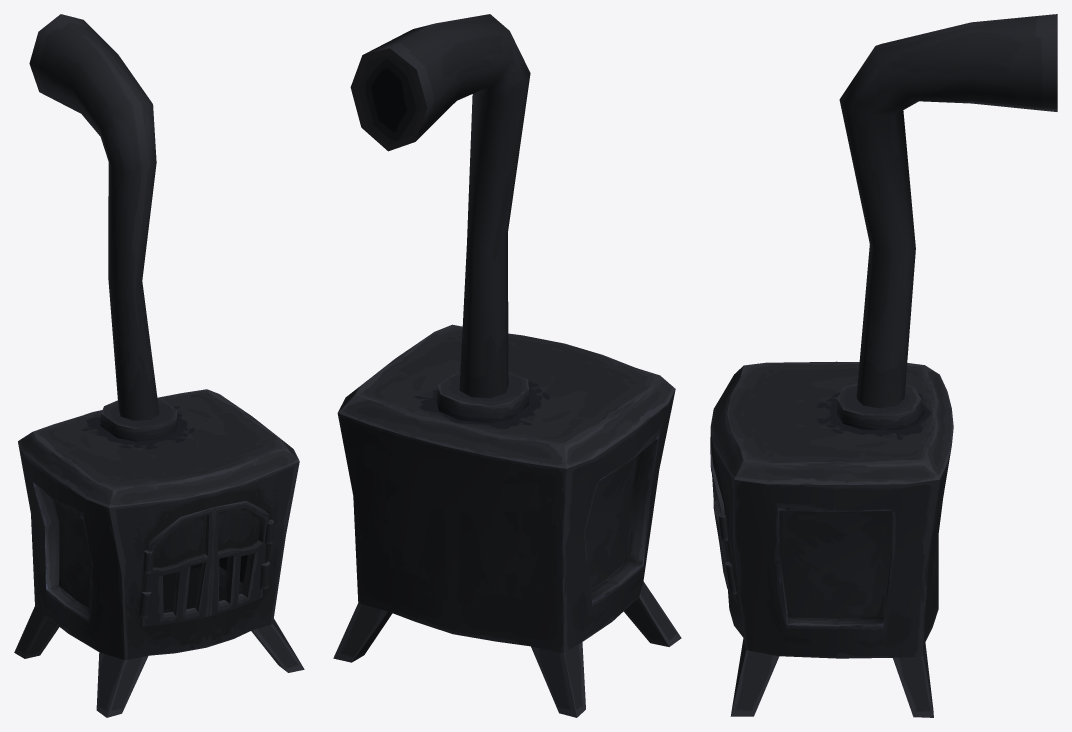
Rendered from SM_PROP_stove_interior.fbx.
3 renders of one model, left to right at view 1: azimuth 30°, elevation 25°; view 2: azimuth 150°, elevation 25°; view 3: azimuth 270°, elevation 25°, orthographic. The views are drawn at different scales.
Parts seen in each view (by area): view 1: SM_PROP_stove_interior, SM_PROP_stove_pipe_interior, SM_PROP_stove_door_01_interior, SM_PROP_stove_door_02_interior; view 2: SM_PROP_stove_interior, SM_PROP_stove_pipe_interior; view 3: SM_PROP_stove_interior, SM_PROP_stove_pipe_interior, SM_PROP_stove_door_02_interior.
Boxes of the visible parts, x1=… form: SM_PROP_stove_interior: x1=14, y1=389, x2=304, y2=717; SM_PROP_stove_pipe_interior: x1=29, y1=14, x2=159, y2=420; SM_PROP_stove_door_01_interior: x1=142, y1=507, x2=214, y2=626; SM_PROP_stove_door_02_interior: x1=208, y1=500, x2=269, y2=616; SM_PROP_stove_interior: x1=333, y1=324, x2=681, y2=717; SM_PROP_stove_pipe_interior: x1=350, y1=14, x2=530, y2=398; SM_PROP_stove_interior: x1=710, y1=361, x2=953, y2=717; SM_PROP_stove_pipe_interior: x1=839, y1=14, x2=1057, y2=408; SM_PROP_stove_door_02_interior: x1=710, y1=444, x2=737, y2=604.
Size of the model in its own units: 86.24 by 225 by 109.
